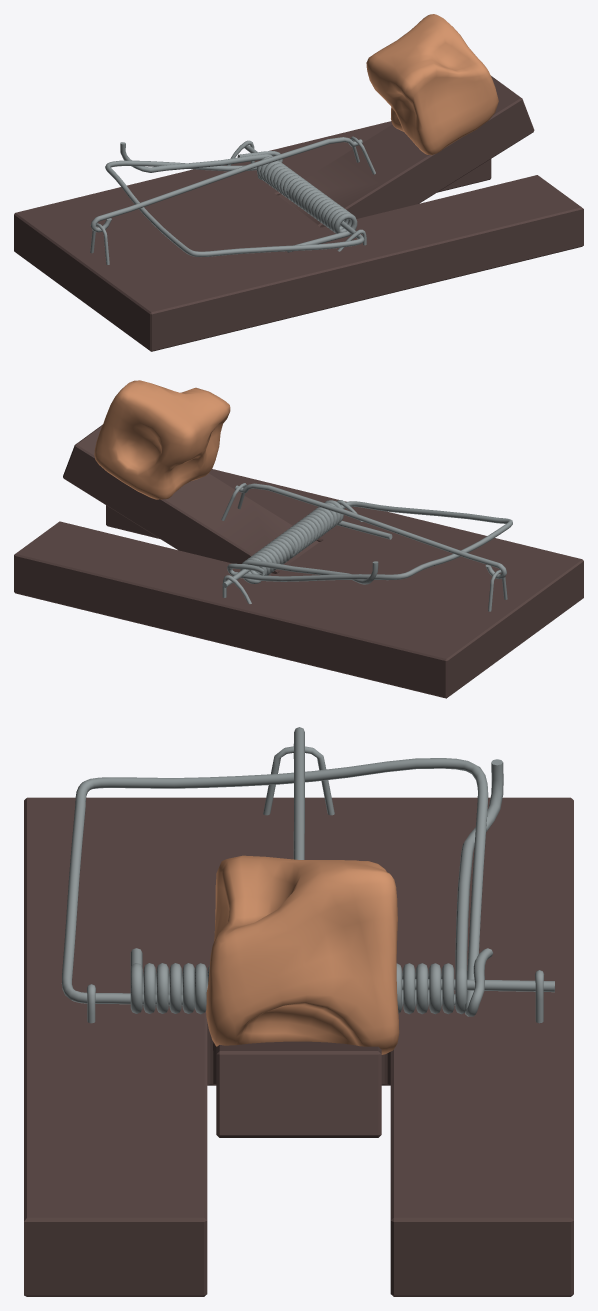
File: mouse trap def.fbx
The picture shows the model from 3 angles, top to bottom: view 1: azimuth 30°, elevation 25°; view 2: azimuth 150°, elevation 25°; view 3: azimuth 270°, elevation 25°; orthographic projection. The views are drawn at different scales.
Parts seen in each view (by area): view 1: cheese; view 2: cheese; view 3: cheese.
Boxes of the visible parts, x1,y1,x2,y2 form: cheese: (14,14,583,351); cheese: (14,380,583,698); cheese: (24,727,573,1296).
Size of the model in its own units: 281 by 114 by 155.
